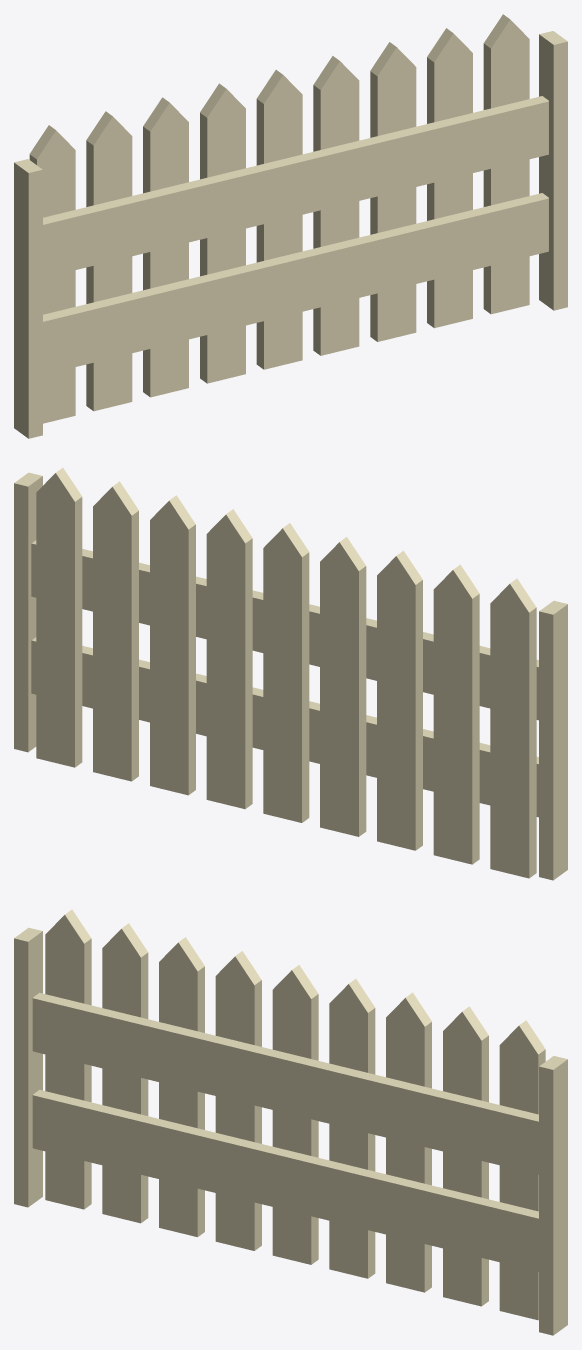
The model's file is see_through_features.glb.
3 renders of one model, top to bottom at view 1: azimuth 30°, elevation 25°; view 2: azimuth 150°, elevation 25°; view 3: azimuth 330°, elevation 25°, orthographic.
Parts seen in each view (by area): view 1: fence; view 2: fence; view 3: fence.
Boxes of the visible parts, x1,y1,x2,y2 form: fence: (14, 14, 567, 438); fence: (14, 467, 567, 880); fence: (14, 909, 567, 1335).
Size of what is drawn, in the model's own units: 2.12 by 1.09 by 0.1293.
